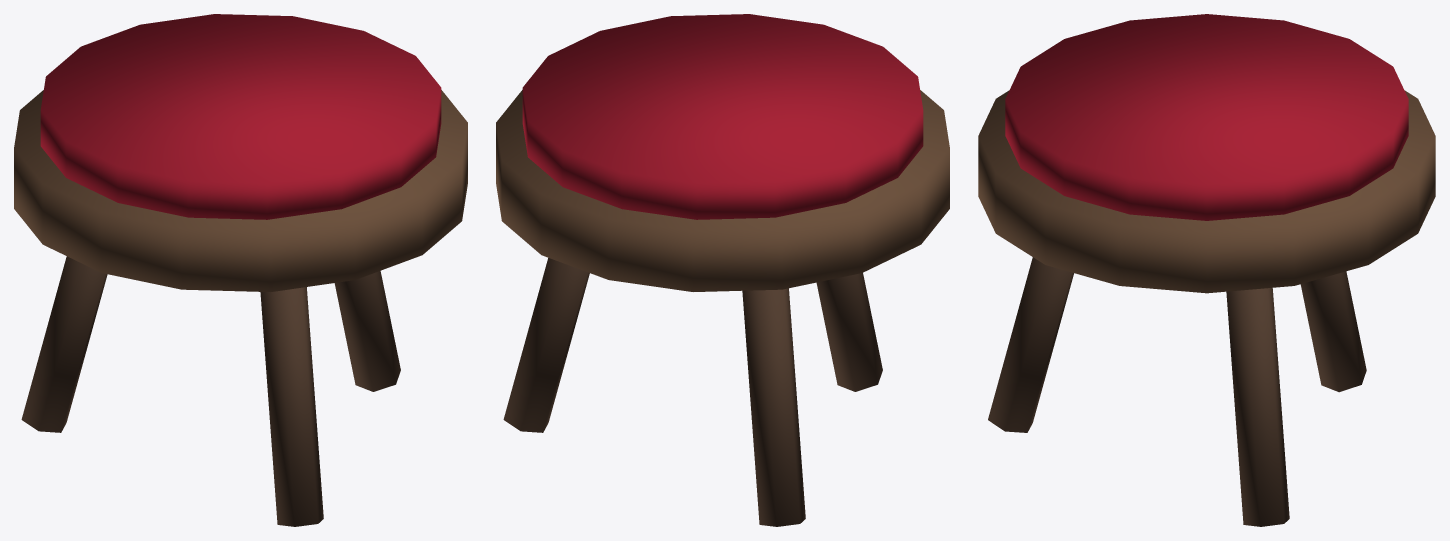
Rendered from footstool.glb.
3 views of the same model, side by side, from view 1: azimuth 30°, elevation 25°; view 2: azimuth 150°, elevation 25°; view 3: azimuth 270°, elevation 25° (orthographic).
Parts seen in each view (by area): view 1: footstool; view 2: footstool; view 3: footstool.
Boxes of the visible parts, x1,y1,x2,y2 form: footstool: (14,14,467,526); footstool: (496,14,949,526); footstool: (978,14,1435,526).
Bounding box in the file's own units: 0.34 × 0.2838 × 0.34.
